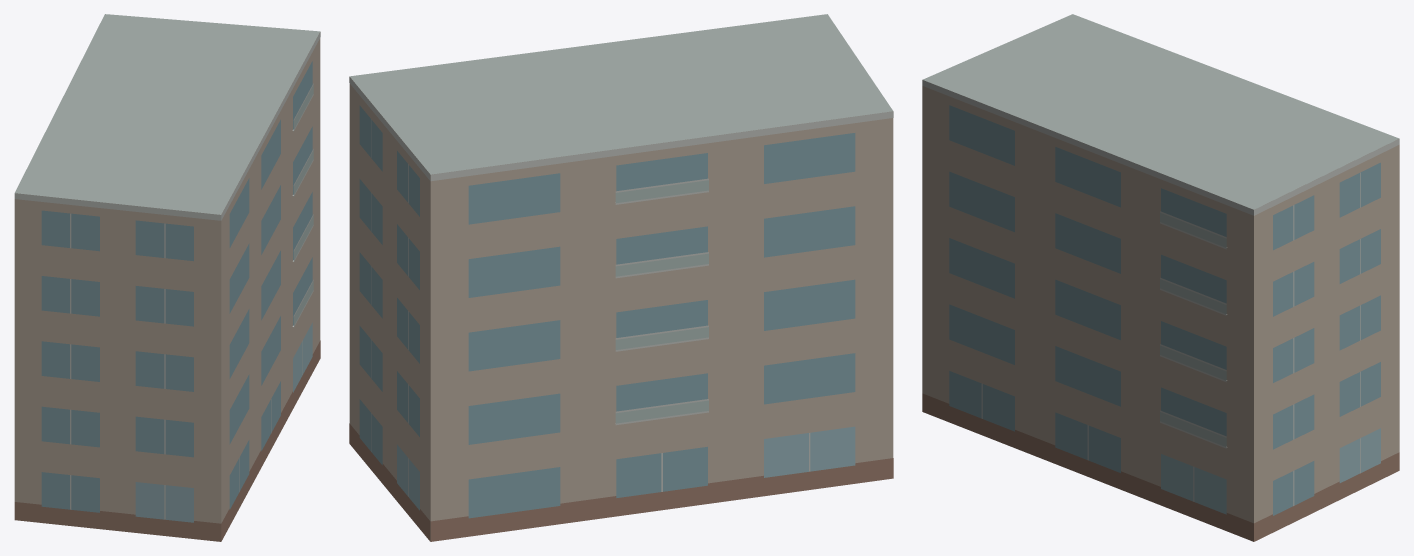
The model's file is survey-upis-32507363.glb.
The picture shows the model from 3 angles, left to right: view 1: azimuth 30°, elevation 25°; view 2: azimuth 150°, elevation 25°; view 3: azimuth 270°, elevation 25°; orthographic projection. The views are drawn at different scales.
Parts seen in each view (by area): view 1: survey-upis-32507363.tmp; view 2: survey-upis-32507363.tmp; view 3: survey-upis-32507363.tmp.
Boxes of the visible parts, x1=… form: survey-upis-32507363.tmp: x1=14, y1=14, x2=320, y2=541; survey-upis-32507363.tmp: x1=349, y1=14, x2=893, y2=541; survey-upis-32507363.tmp: x1=922, y1=14, x2=1399, y2=541.
Size of the model in its own units: 17.02 by 13.45 by 17.52.
